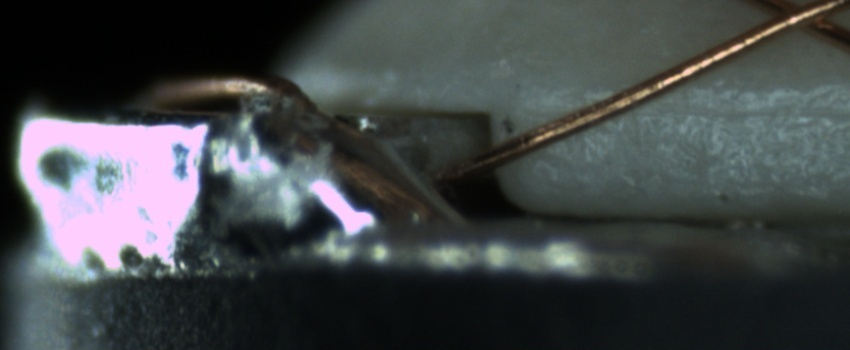CL: (738, 1, 845, 42)
DL: (546, 78, 850, 142)
TE: (140, 69, 327, 126)
